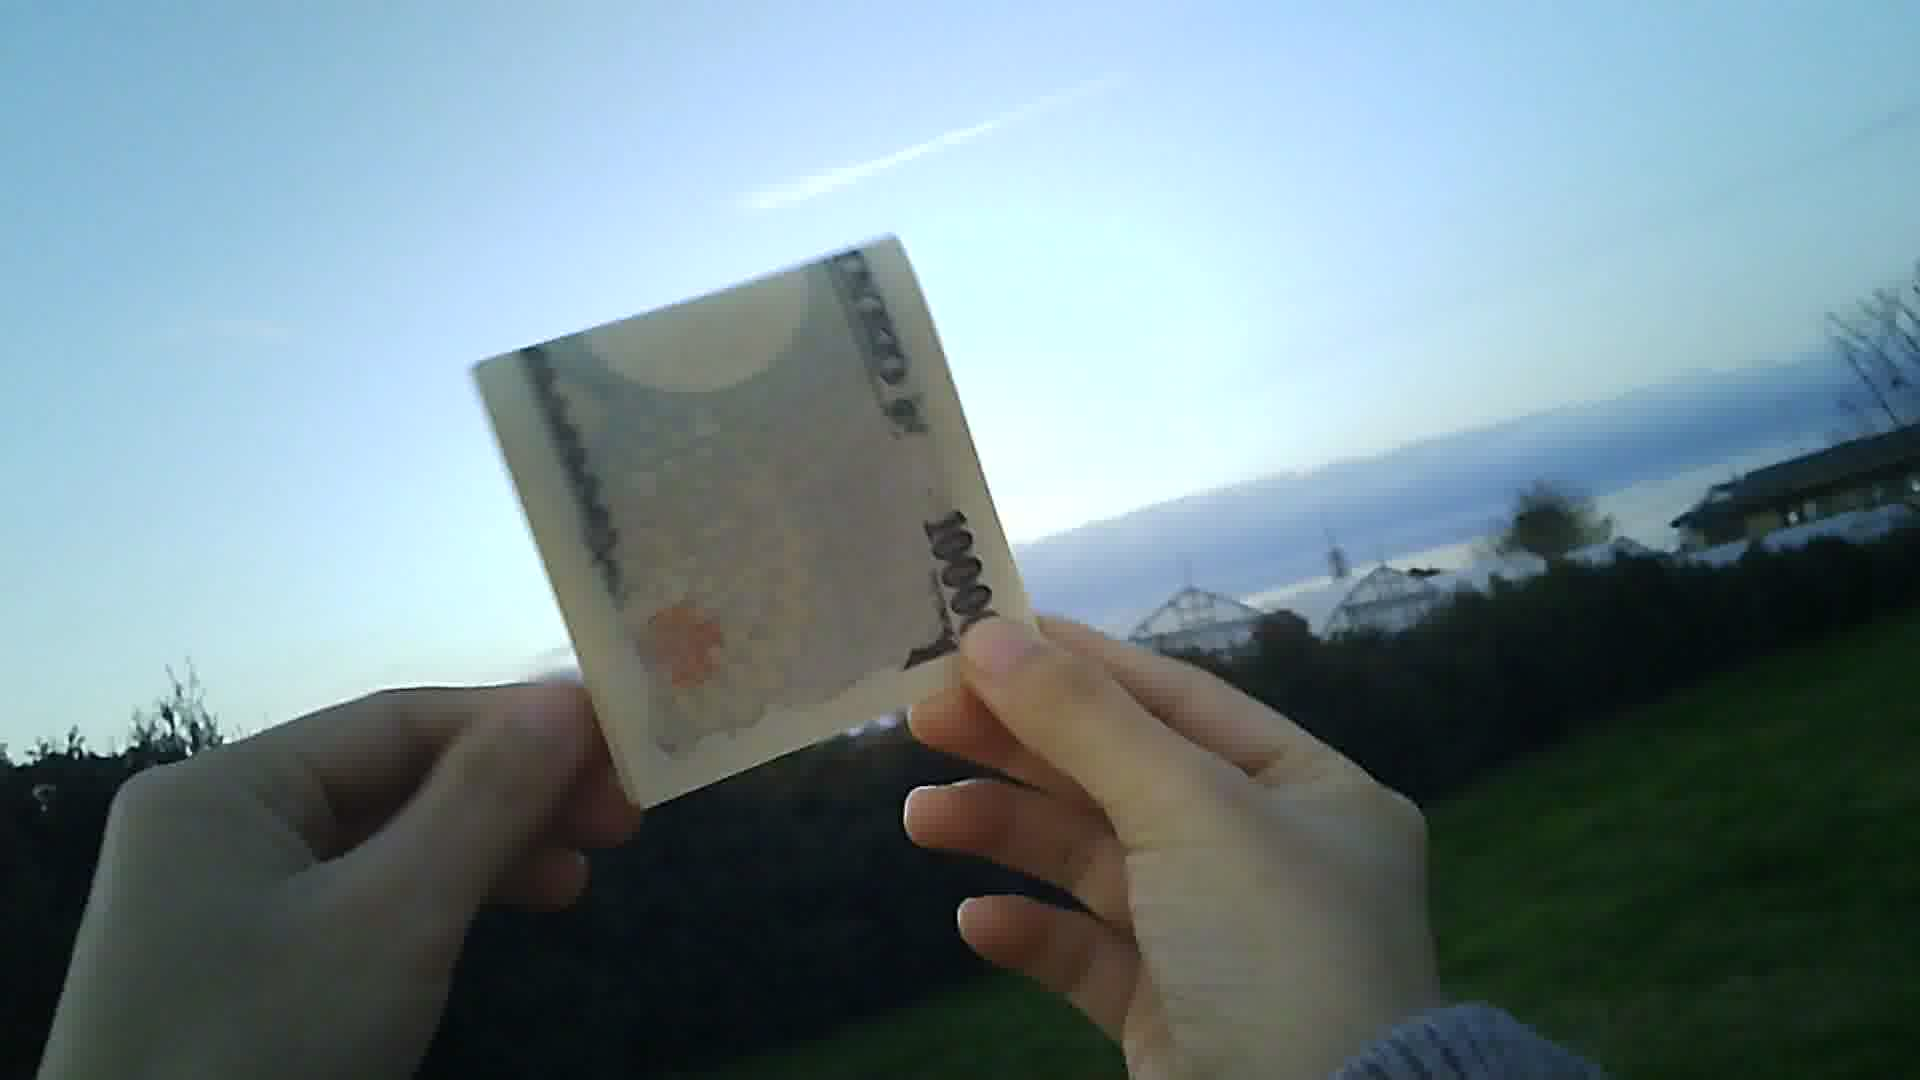10,000 Yen: (419, 200, 1069, 774)
